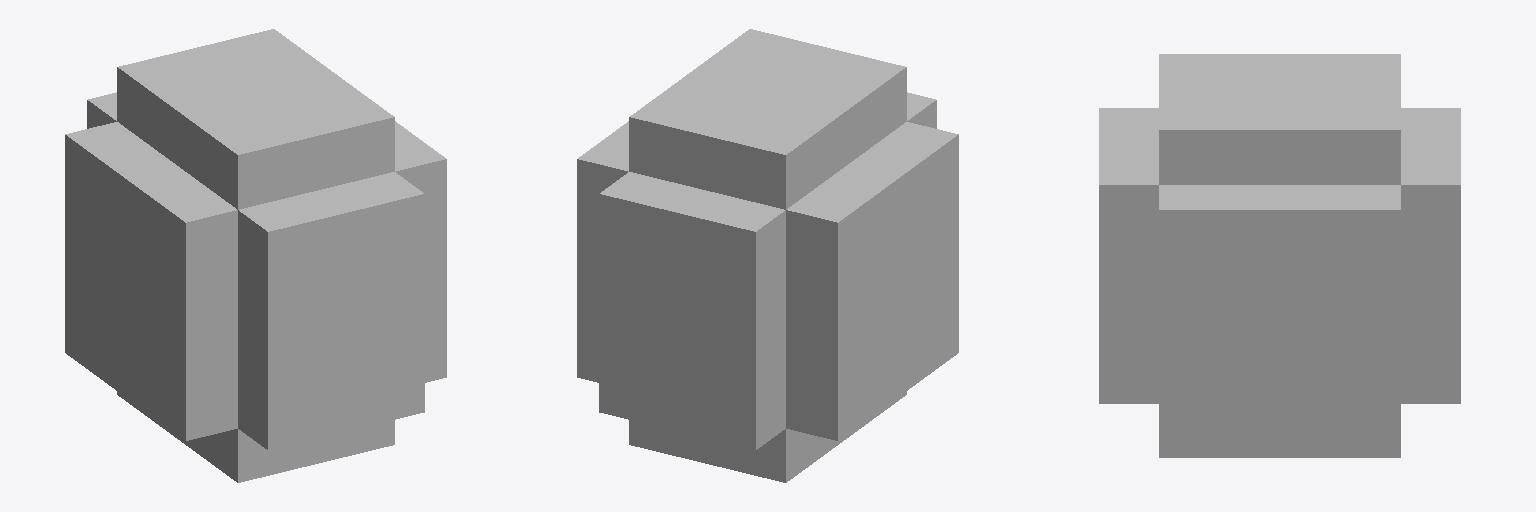
The model's file is bombeman-6-handr.obj.
3 renders of one model, left to right at view 1: azimuth 30°, elevation 25°; view 2: azimuth 150°, elevation 25°; view 3: azimuth 270°, elevation 25°, orthographic.
Parts seen in each view (by area): view 1: handr; view 2: handr; view 3: handr.
Part boxes in pixels (x1,y1,x2,y2): handr: (65, 29, 446, 482); handr: (577, 29, 958, 482); handr: (1099, 54, 1460, 457).
Bounding box in the file's own units: 0.5 × 0.6 × 0.6.